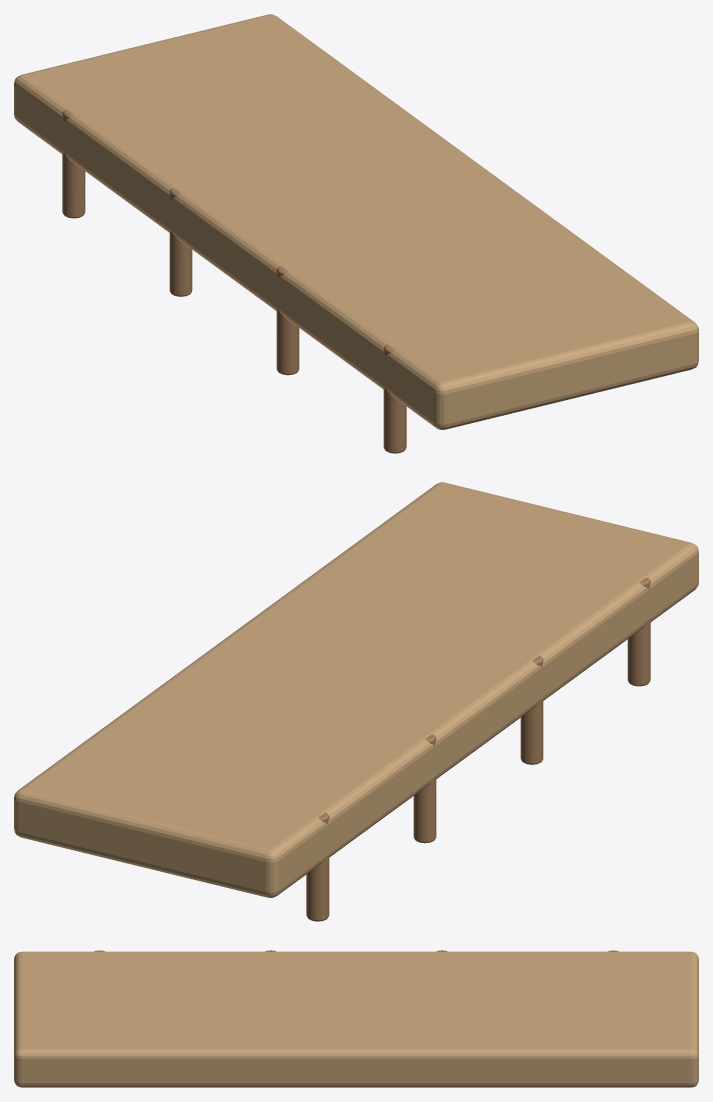
3 views of the same model, one above another, from view 1: azimuth 30°, elevation 25°; view 2: azimuth 150°, elevation 25°; view 3: azimuth 270°, elevation 25° (orthographic). The views are drawn at different scales.
Visible parts, largest first — view 1: LOD0_FISHING_PIER_SHORT_Deck, LOD0_FISHING_PIER_SHORT_Pile_01, LOD0_FISHING_PIER_SHORT_Pile_03, LOD0_FISHING_PIER_SHORT_Pile_04, LOD0_FISHING_PIER_SHORT_Pile_02; view 2: LOD0_FISHING_PIER_SHORT_Deck, LOD0_FISHING_PIER_SHORT_Pile_04, LOD0_FISHING_PIER_SHORT_Pile_01, LOD0_FISHING_PIER_SHORT_Pile_02, LOD0_FISHING_PIER_SHORT_Pile_03; view 3: LOD0_FISHING_PIER_SHORT_Deck.
Part boxes in pixels (bbox=[...]): LOD0_FISHING_PIER_SHORT_Deck: bbox=[14, 14, 698, 429]; LOD0_FISHING_PIER_SHORT_Pile_01: bbox=[383, 344, 406, 453]; LOD0_FISHING_PIER_SHORT_Pile_03: bbox=[169, 188, 192, 296]; LOD0_FISHING_PIER_SHORT_Pile_04: bbox=[62, 109, 85, 218]; LOD0_FISHING_PIER_SHORT_Pile_02: bbox=[276, 266, 299, 375]; LOD0_FISHING_PIER_SHORT_Deck: bbox=[14, 482, 698, 897]; LOD0_FISHING_PIER_SHORT_Pile_04: bbox=[306, 812, 329, 921]; LOD0_FISHING_PIER_SHORT_Pile_01: bbox=[627, 577, 650, 686]; LOD0_FISHING_PIER_SHORT_Pile_02: bbox=[520, 656, 543, 764]; LOD0_FISHING_PIER_SHORT_Pile_03: bbox=[413, 734, 436, 843]; LOD0_FISHING_PIER_SHORT_Deck: bbox=[14, 951, 698, 1087].
Size of what is drawn, in the model's own units: 3.2 by 1.21 by 9.
